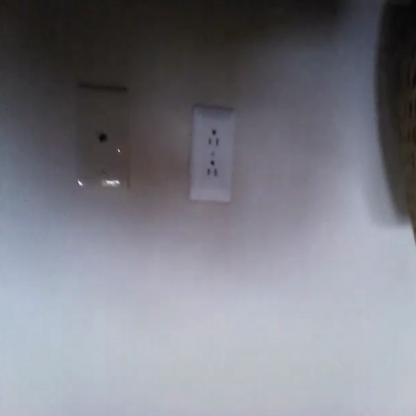OUTLET: (190, 111, 234, 203)
